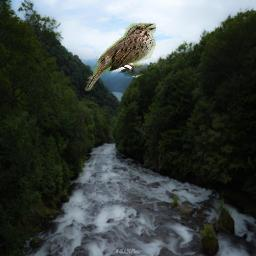Sparrow: (86, 23, 157, 92)
